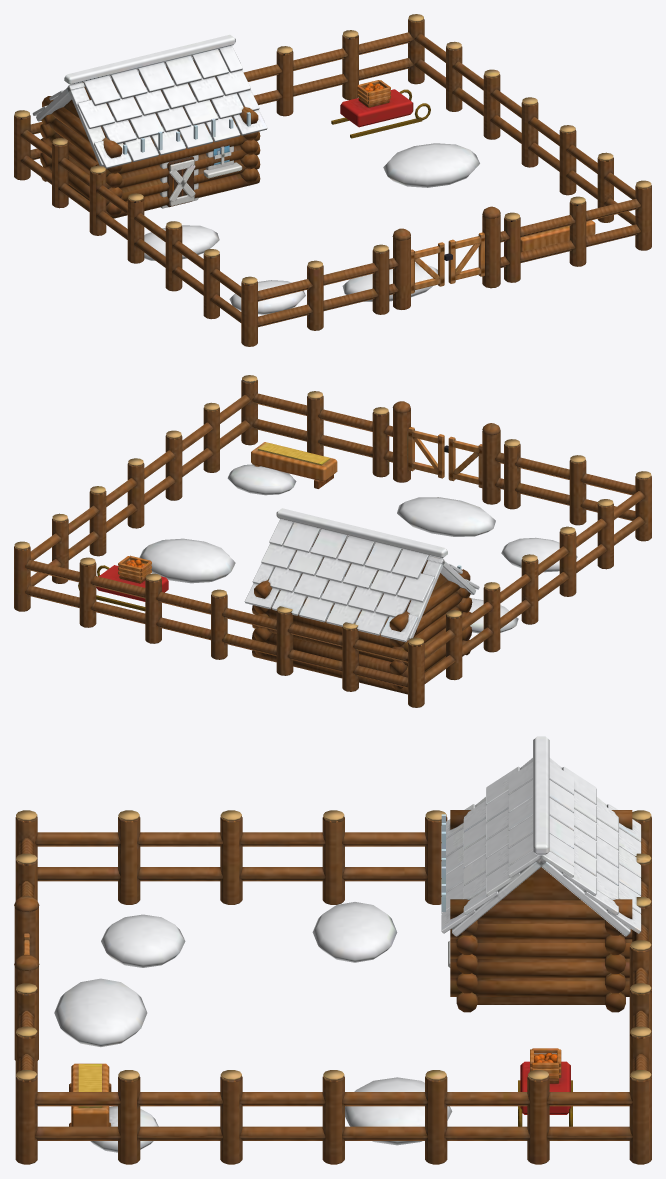
Rendered from reindeer_lodge.glb.
3 renders of one model, top to bottom at view 1: azimuth 30°, elevation 25°; view 2: azimuth 150°, elevation 25°; view 3: azimuth 270°, elevation 25°, orthographic. The views are drawn at different scales.
Parts seen in each view (by area): view 1: reindeer_lodge; view 2: reindeer_lodge; view 3: reindeer_lodge.
Boxes of the visible parts, x1,y1,x2,y2 form: reindeer_lodge: (14,14,651,346); reindeer_lodge: (14,375,651,707); reindeer_lodge: (14,736,651,1164).
Bounding box in the file's own units: 3 × 0.981 × 3.01.
1 material, 1 textured.
